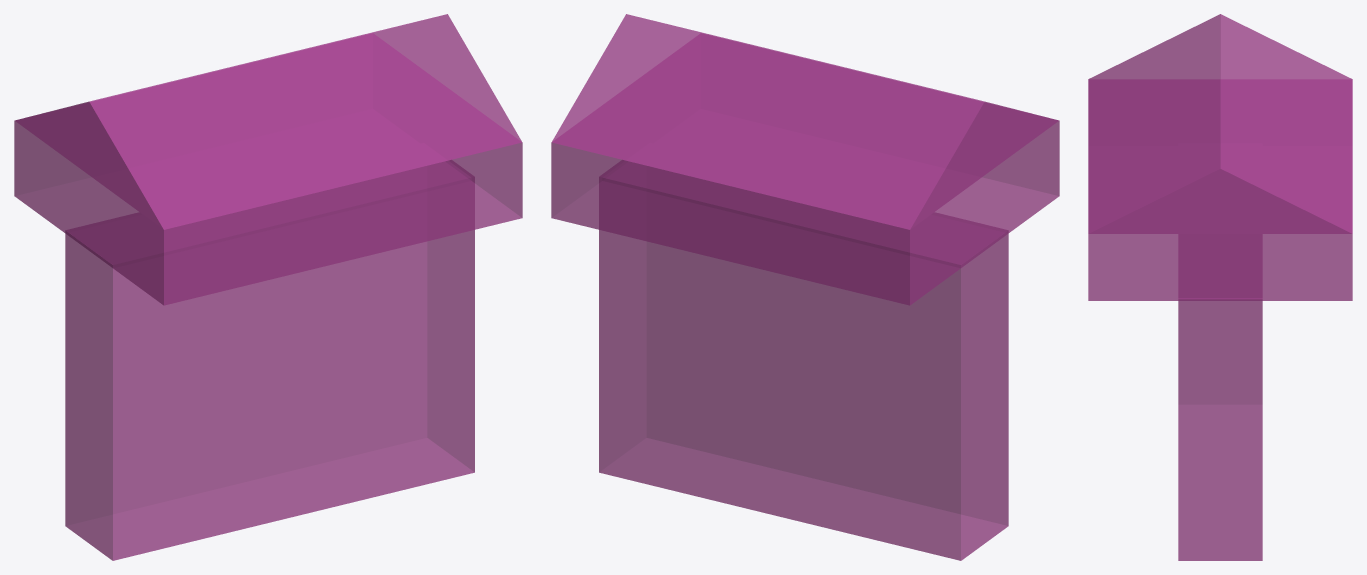
The model's file is SM_Bld_Fence_Dobei_02_Collision_01.fbx.
3 renders of one model, left to right at view 1: azimuth 30°, elevation 25°; view 2: azimuth 150°, elevation 25°; view 3: azimuth 270°, elevation 25°, orthographic. The views are drawn at different scales.
Visible parts, largest first — view 1: SM_Bld_Fence_Dobei_02_Collision_01; view 2: SM_Bld_Fence_Dobei_02_Collision_01; view 3: SM_Bld_Fence_Dobei_02_Collision_01.
Boxes of the visible parts, x1=… form: SM_Bld_Fence_Dobei_02_Collision_01: x1=14, y1=14, x2=522, y2=560; SM_Bld_Fence_Dobei_02_Collision_01: x1=551, y1=14, x2=1059, y2=560; SM_Bld_Fence_Dobei_02_Collision_01: x1=1088, y1=14, x2=1352, y2=560.
Bounding box in the file's own units: 258 × 301 × 185.
